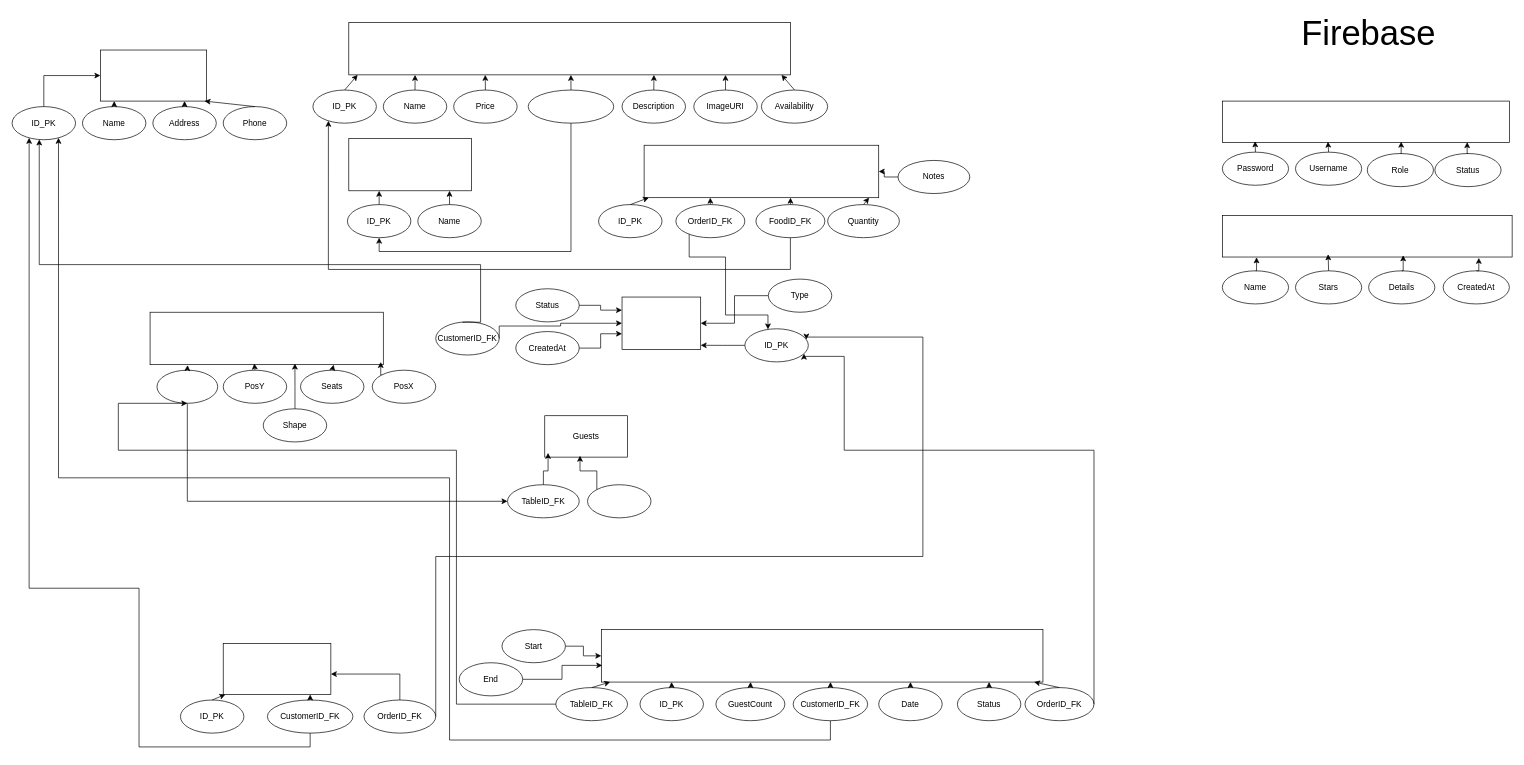
The diagram is 1524 pixels wide and 765 high, and some of its shapes have lost their labels. The shapes that lost their labels are listed below. From the top down, each one's centre as x and y in pixels, then its label:
the point at 569,48: Menu Item
the point at 153,75: Customer
the point at 571,106: CategoryID_FK
the point at 1365,121: Staff
the point at 410,164: Category
the point at 761,171: OrderItem
the point at 1367,236: Review
the point at 266,338: DiningTable
the point at 661,322: Orders
the point at 187,386: ID
the point at 619,501: Seat
the point at 277,668: Delivery
the point at 822,655: Reservation
